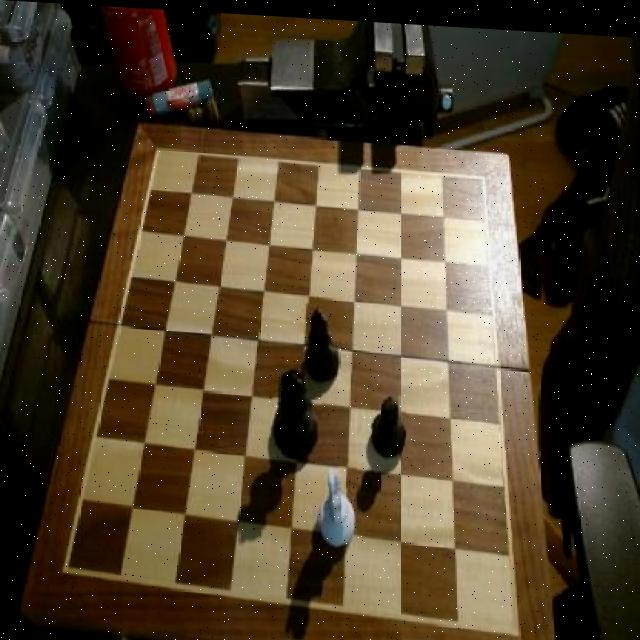bishop: (303, 300, 341, 385)
black-knight: (369, 391, 408, 460)
black-pawn: (271, 362, 321, 457)
white-king: (317, 461, 358, 547)
